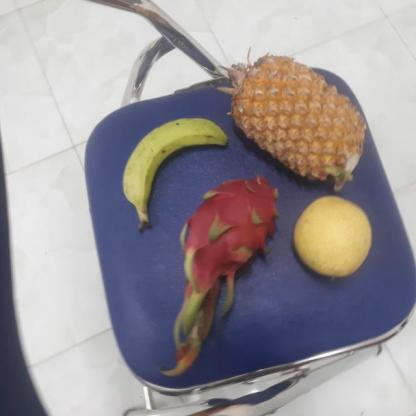banana: (125, 115, 233, 218)
guava: (293, 198, 377, 276)
pineapple: (232, 56, 368, 192)
pitaya: (180, 176, 286, 290)
